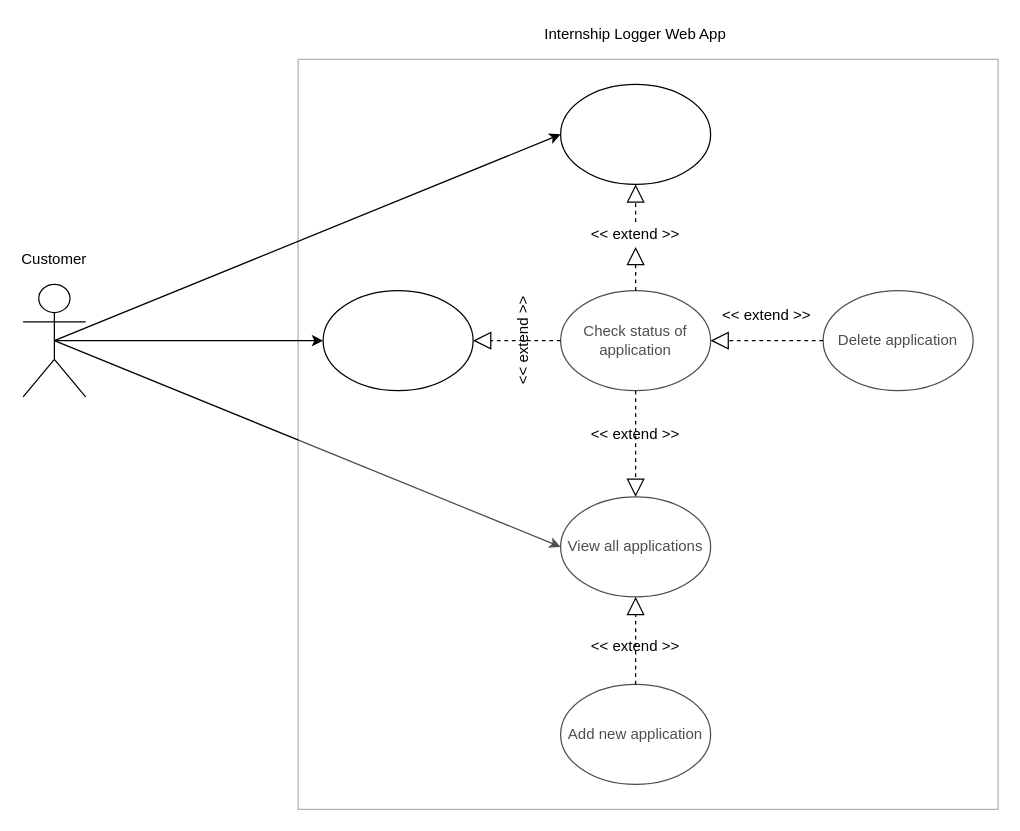
This 1020x831 diagram has some shape labels left out. Each missing label, with the centre of its shape:
"Filter Applications by Status" belongs at (397,340).
"Search Applications by Company Name" belongs at (635,133).
